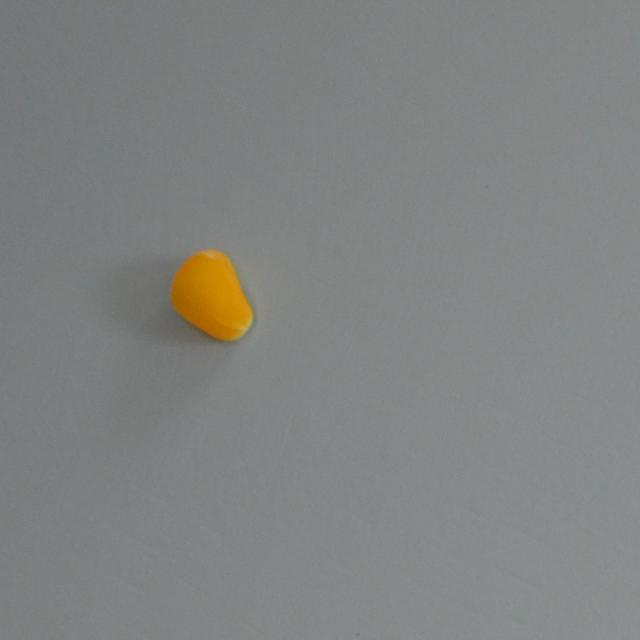agrietado: (163, 242, 258, 346)
